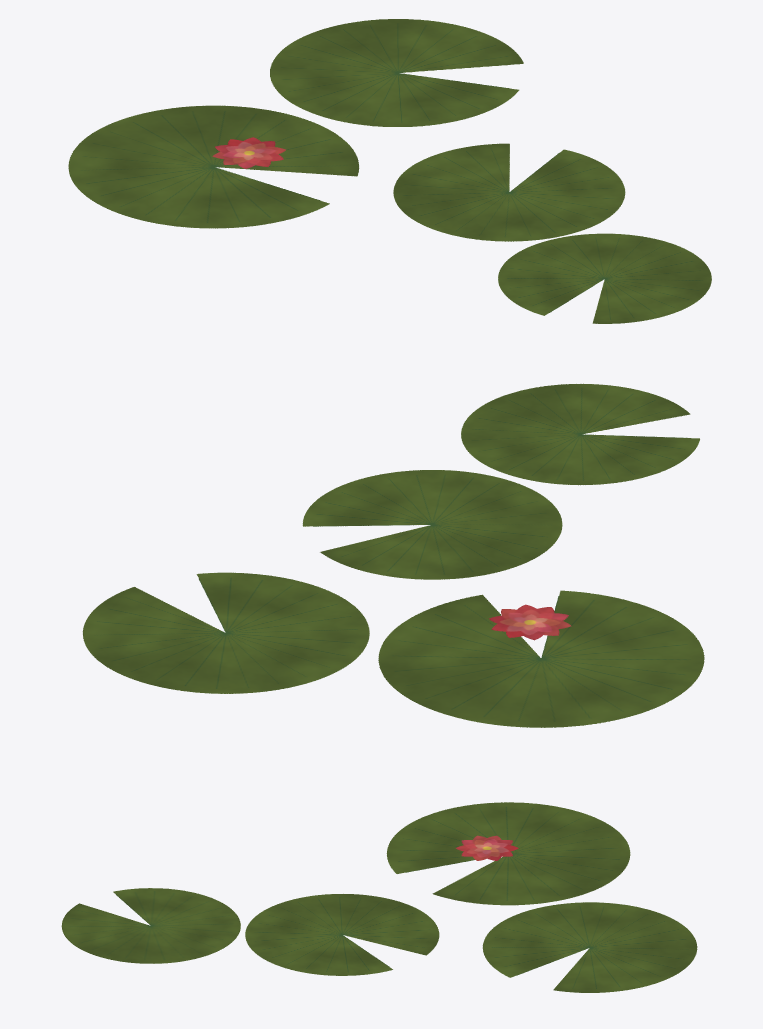
Rendered from WaterLily_1_LOD2.gltf.
3 renders of one model, top to bottom at view 1: azimuth 30°, elevation 25°; view 2: azimuth 150°, elevation 25°; view 3: azimuth 270°, elevation 25°, orthographic. The views are drawn at different scales.
Parts seen in each view (by area): view 1: WaterLily_1_LOD2; view 2: WaterLily_1_LOD2; view 3: WaterLily_1_LOD2.
Part boxes in pixels (x1,y1,x2,y2): WaterLily_1_LOD2: [68, 19, 711, 323]; WaterLily_1_LOD2: [82, 383, 704, 727]; WaterLily_1_LOD2: [61, 802, 697, 992].
Size of the model in its own units: 0.8549 by 0.0257 by 1.1.
2 materials, 2 textured.
